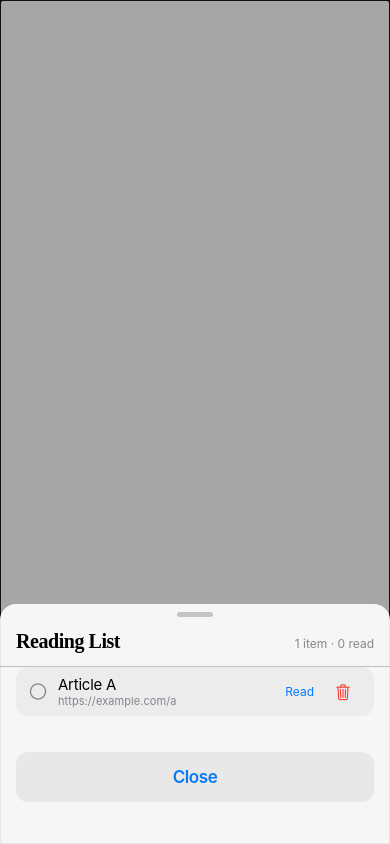
Test case: BrowserReadingList › removes an item when the trash action is pressed
Click the button named "Remove Article A from reading list".
click(343, 692)  # box [324, 682, 362, 702]
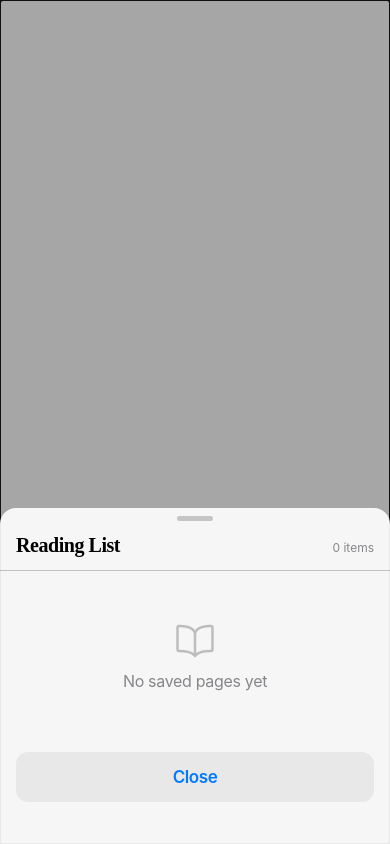
Expected: the button "Article A" is gone
Expected: the text "0 items" is shown, [332, 540, 374, 556]
